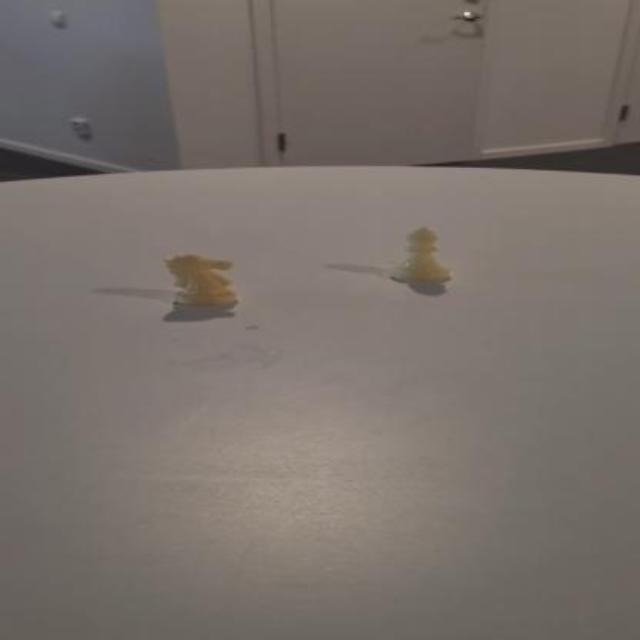white-bishop: (382, 223, 458, 286)
white-knight: (165, 253, 245, 311)
